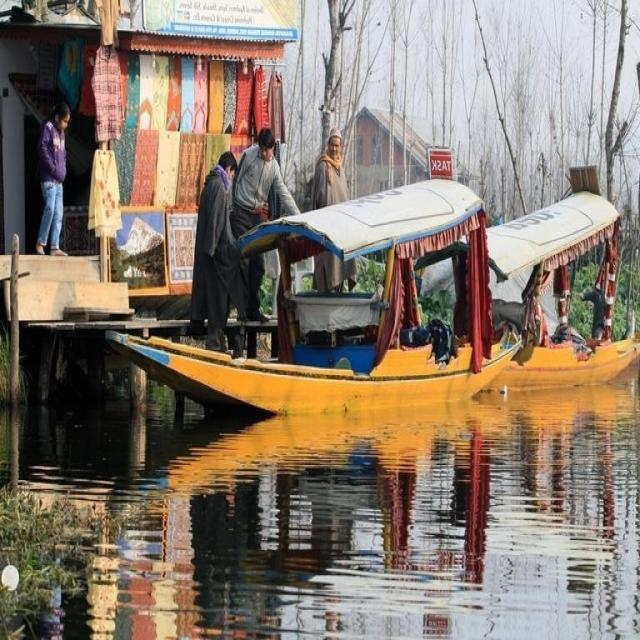boat: (113, 316, 524, 410)
